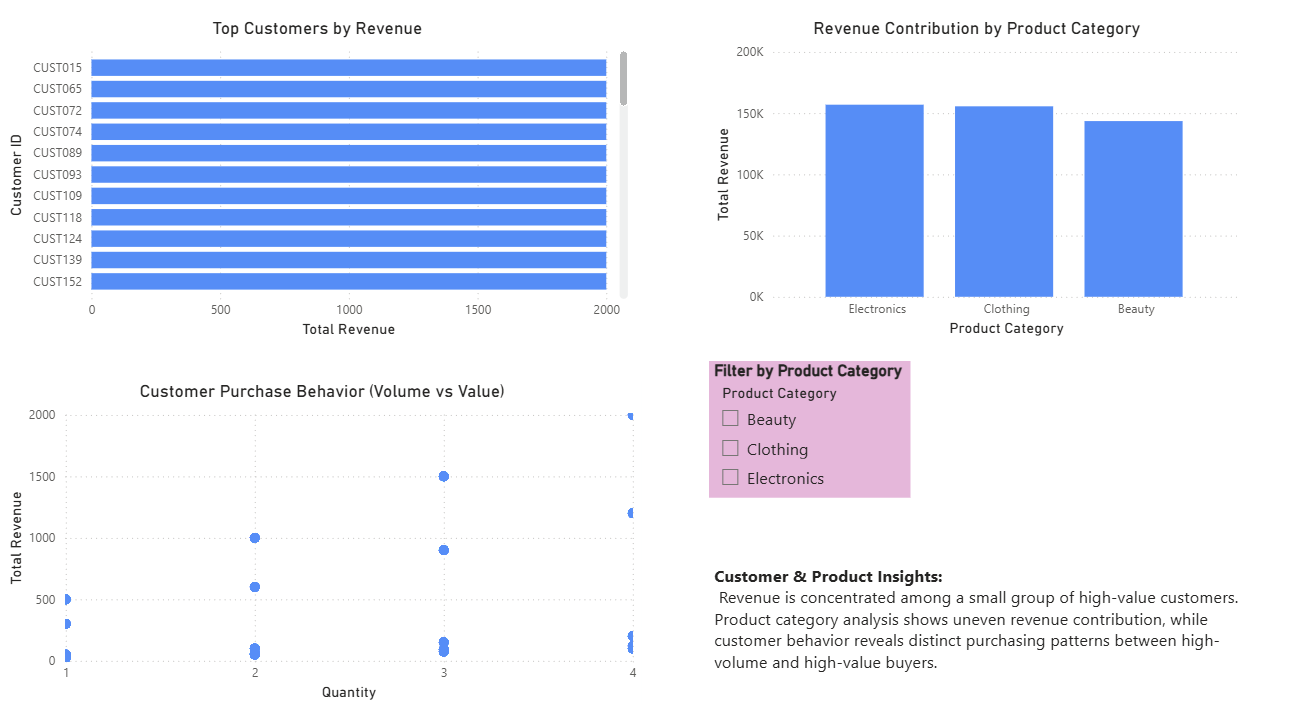

Layout of this report page (visuals, bound fields, positions):
{"tool":"powerbi","page":{"name":"Customer & Product Insights","canvas":[1280,720],"ordinal":1},"visuals":[{"type":"clusteredBarChart","title":"Top Customers by Revenue","fields":{"Category":["RETAIL_SALES_DATASET.Customer ID"],"Y":["RETAIL_SALES_DATASET.Total Revenue"]},"box":[17.5,26.3,613.7,315.1],"z":0},{"type":"clusteredColumnChart","title":"Revenue Contribution by Product Category","fields":{"Category":["RETAIL_SALES_DATASET.Product Category"],"Y":["RETAIL_SALES_DATASET.Total Revenue"]},"box":[705.2,26.3,521.3,314.2],"z":1000},{"type":"scatterChart","title":"Customer Purchase Behavior (Volume vs Value)","fields":{"X":["Sum(RETAIL_SALES_DATASET.Quantity)"],"Y":["RETAIL_SALES_DATASET.Total Revenue"],"Category":["RETAIL_SALES_DATASET.Customer ID"]},"box":[17.5,379.3,622.5,315.1],"z":2000},{"type":"slicer","title":"Filter by Product Category","fields":{"Values":["RETAIL_SALES_DATASET.Product Category"]},"box":[705.2,359.9,196.5,133.3],"z":3000},{"type":"textbox","box":[705.2,552.5,539.8,142],"z":4000}]}

Visuals, with their boxes in screenshot pixels (x1, y1, x2, y2), scaled from the page's 1280x720 canvas onto the 1291x727 screenshot:
"Top Customers by Revenue" clusteredBarChart: select_region(18, 27, 637, 345)
"Revenue Contribution by Product Category" clusteredColumnChart: select_region(711, 27, 1237, 344)
"Customer Purchase Behavior (Volume vs Value)" scatterChart: select_region(18, 383, 646, 701)
"Filter by Product Category" slicer: select_region(711, 363, 909, 498)
textbox: select_region(711, 558, 1256, 701)
